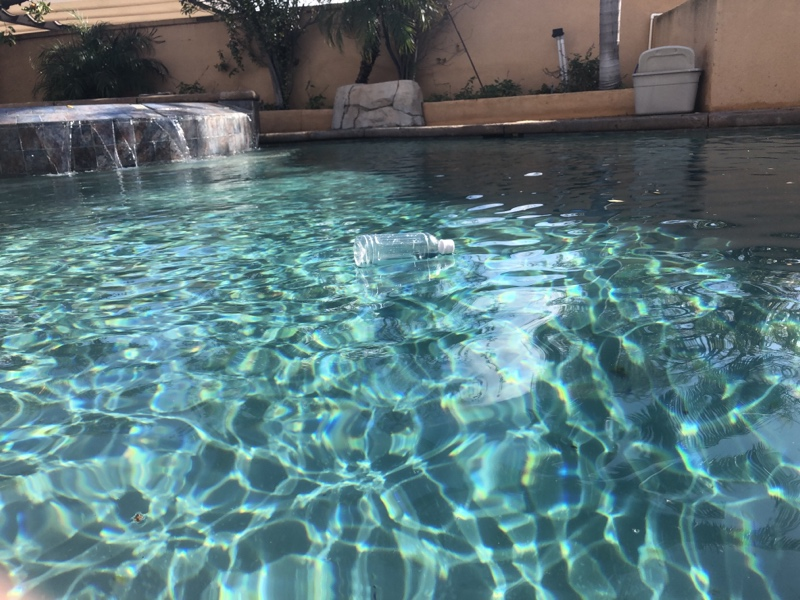Plastic Bottle: (349, 230, 458, 266)
